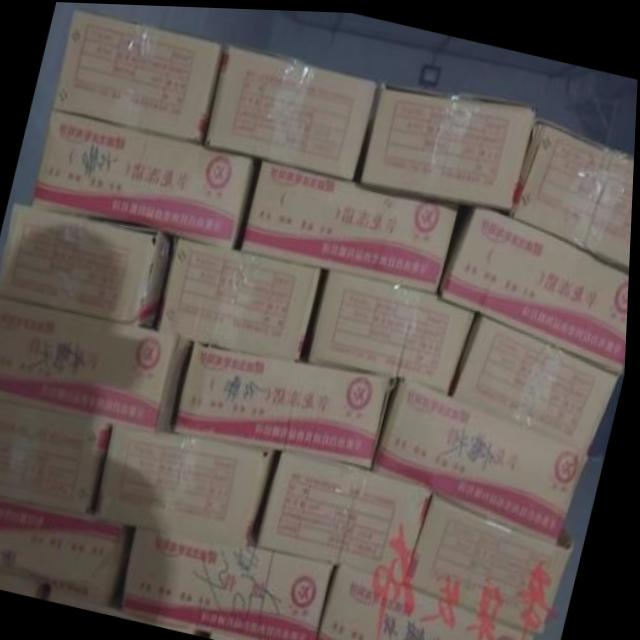box: (376, 376, 594, 539), (441, 204, 631, 371), (31, 110, 252, 247), (242, 157, 460, 293), (176, 340, 400, 466), (0, 297, 194, 433), (124, 527, 337, 640), (206, 40, 379, 179), (53, 8, 228, 144), (408, 490, 578, 630), (450, 311, 622, 448), (262, 450, 436, 581), (362, 77, 536, 206), (97, 425, 279, 544), (311, 269, 479, 392), (0, 203, 172, 322), (159, 236, 323, 358), (510, 113, 635, 267), (322, 559, 539, 640), (0, 495, 133, 614), (0, 400, 116, 516)
